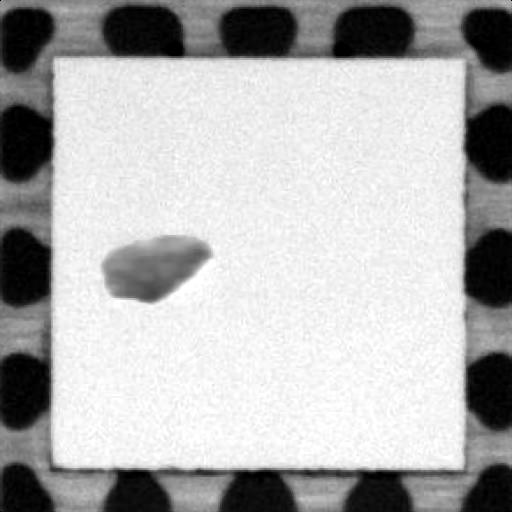DIE_INK: (91, 228, 213, 302)
